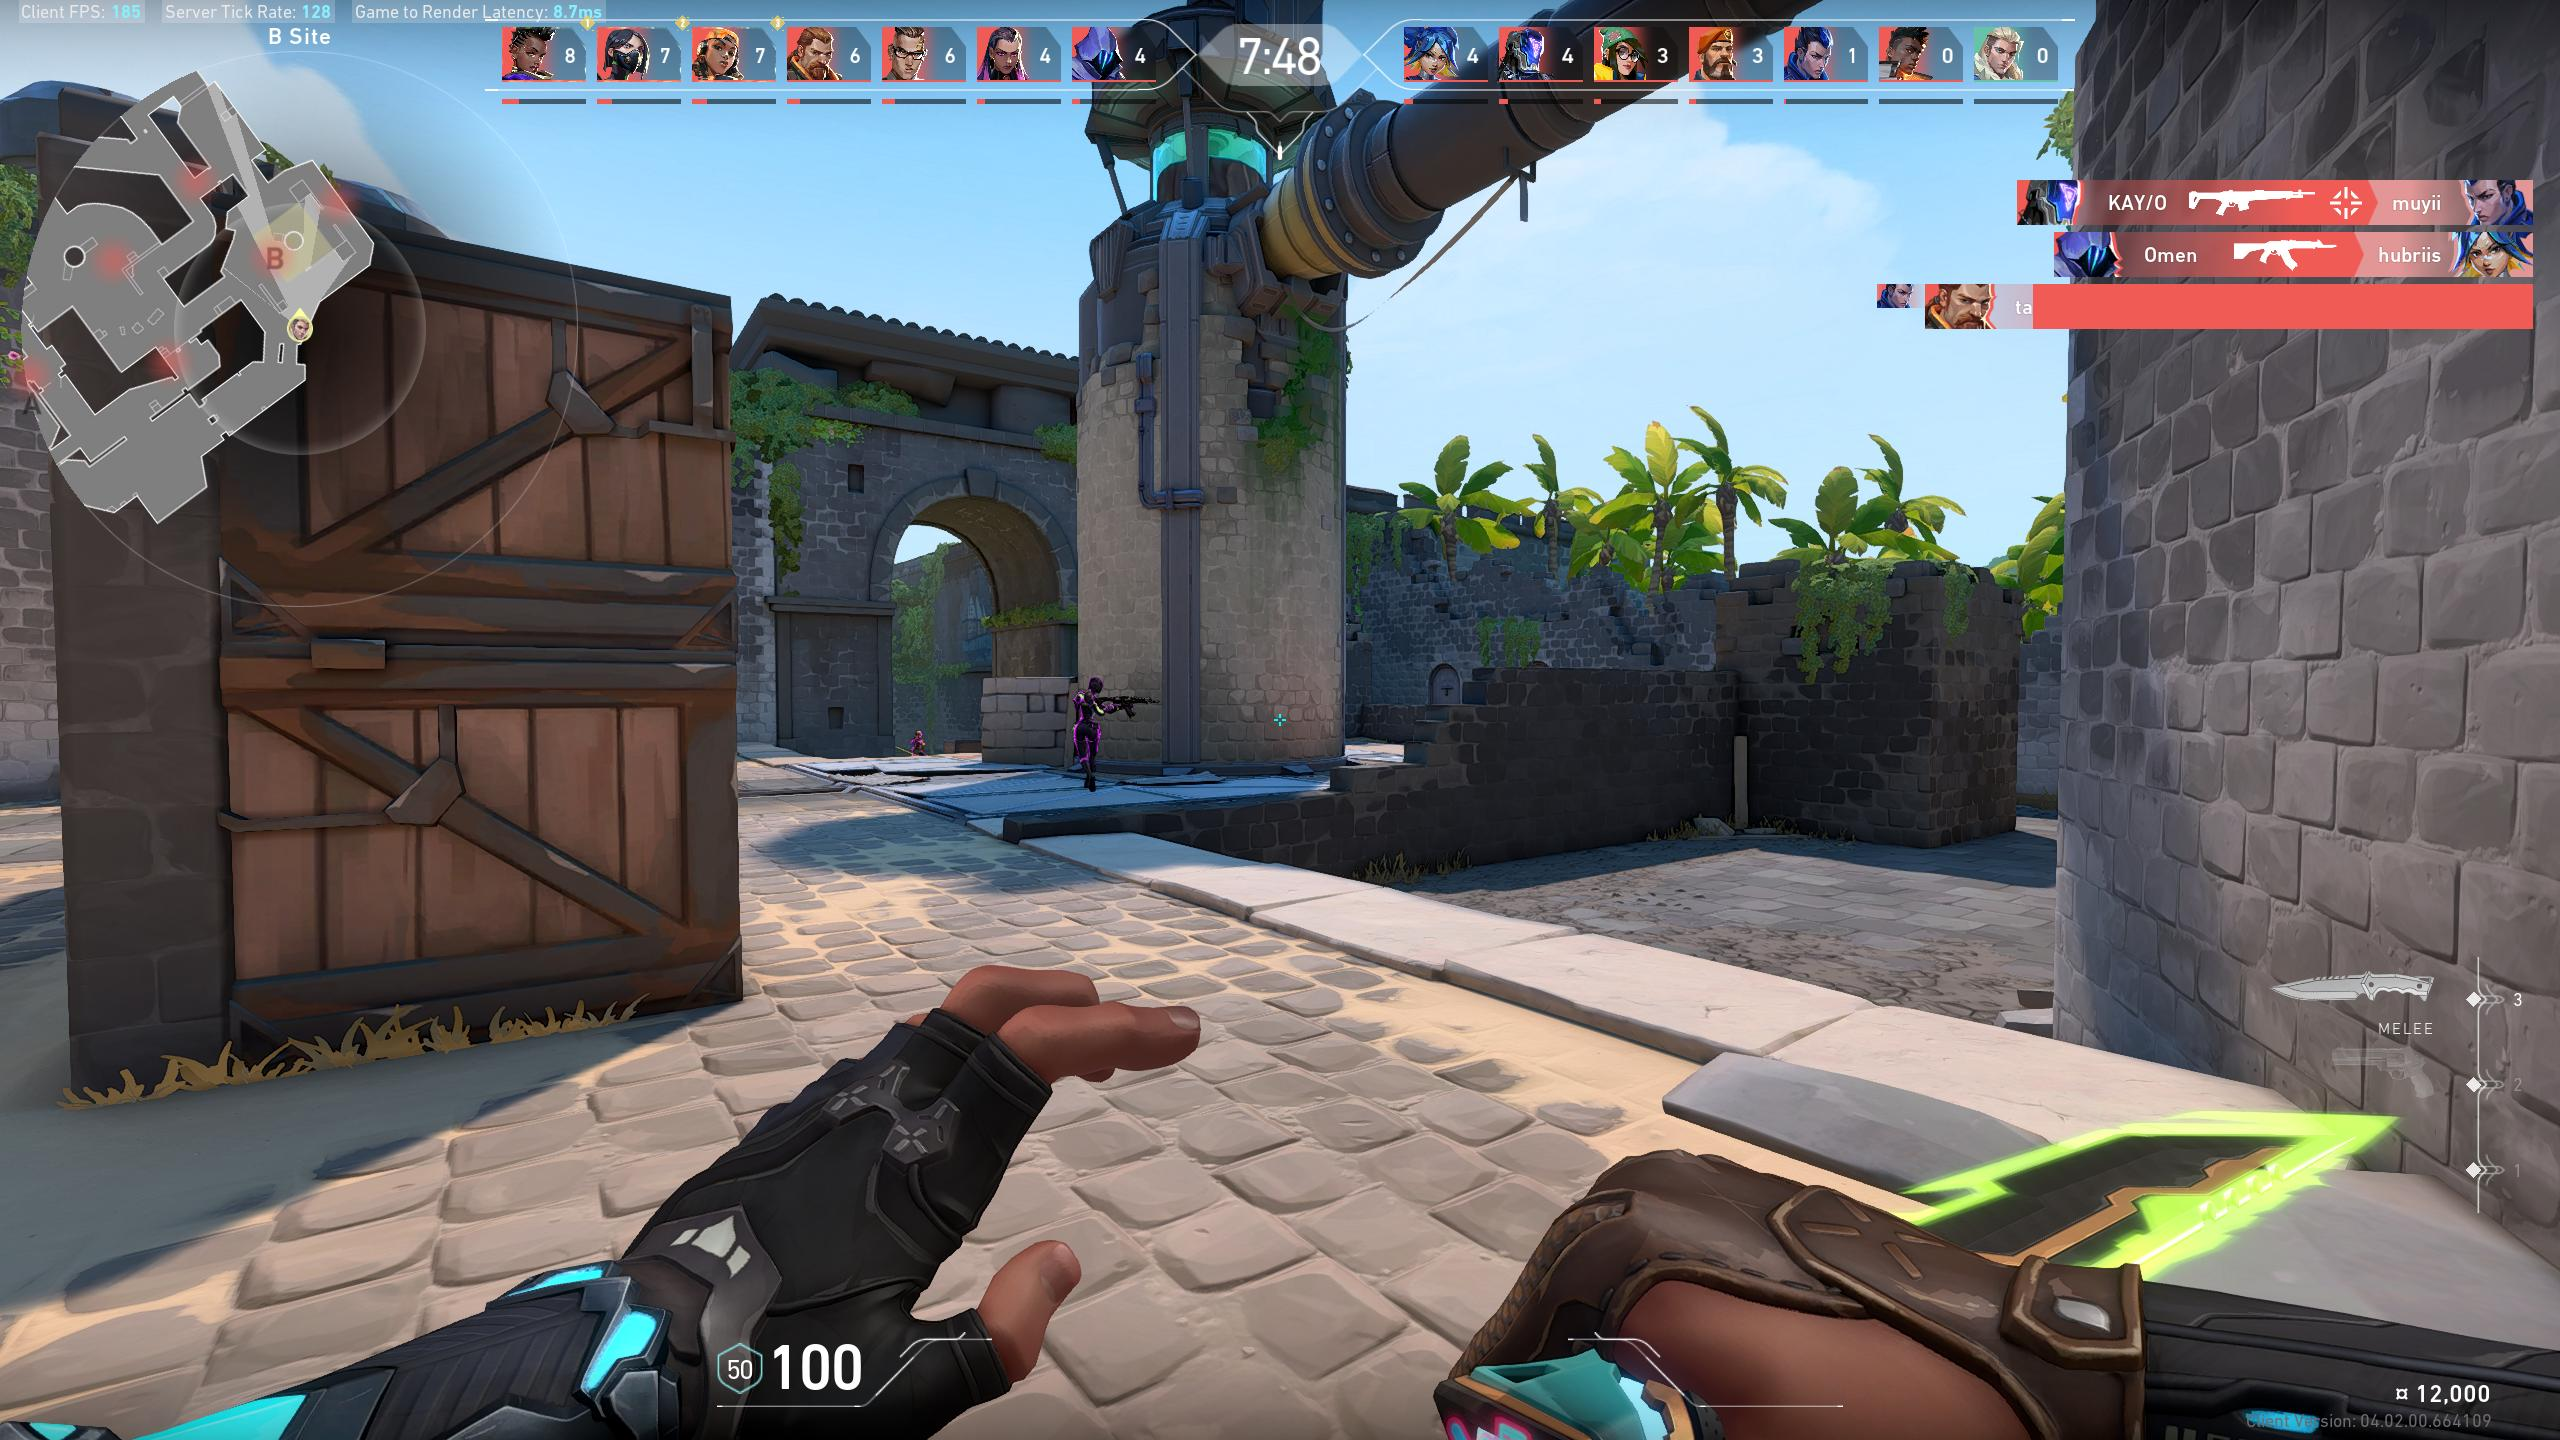enemyBody: (1081, 693, 1092, 723), (918, 738, 921, 747)
enemyHead: (1092, 680, 1097, 689), (918, 731, 921, 737)
